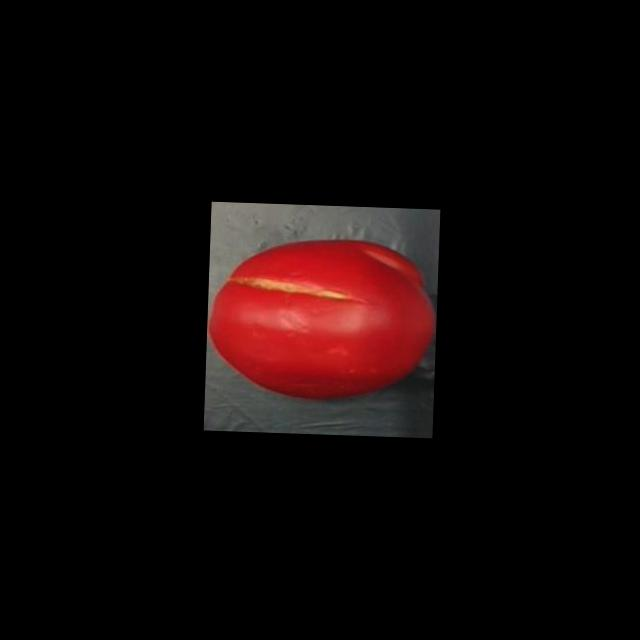tomato: (202, 231, 436, 414)
